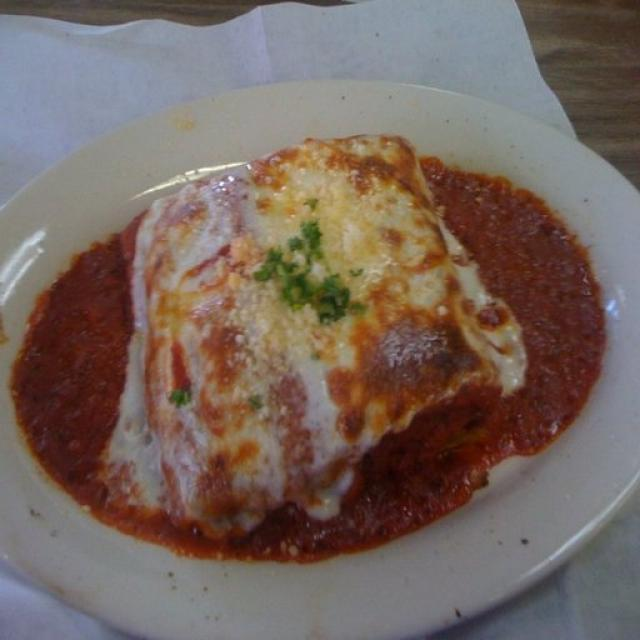Lasagna: (74, 140, 568, 528)
